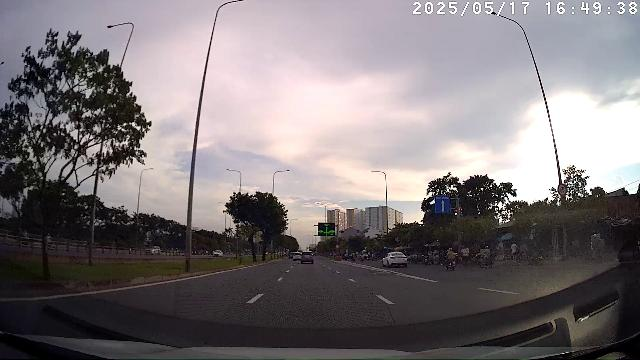127-toc-do-toi-da-60: (557, 184, 567, 196)
